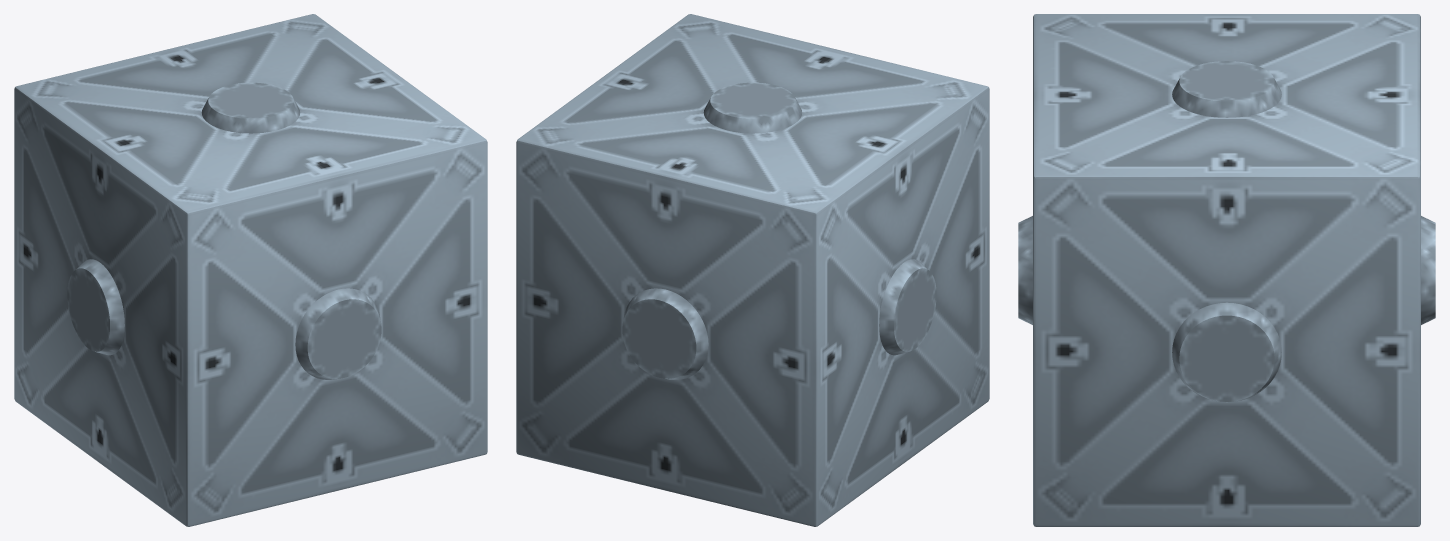
The model's file is ServiceCrate.glb.
3 views of the same model, side by side, from view 1: azimuth 30°, elevation 25°; view 2: azimuth 150°, elevation 25°; view 3: azimuth 270°, elevation 25° (orthographic). The views are drawn at different scales.
Parts seen in each view (by area): view 1: RF_ServiceCrate_00_SecondaryMetal; view 2: RF_ServiceCrate_00_SecondaryMetal; view 3: RF_ServiceCrate_00_SecondaryMetal.
Boxes of the visible parts, x1,y1,x2,y2 form: RF_ServiceCrate_00_SecondaryMetal: [14, 14, 487, 526]; RF_ServiceCrate_00_SecondaryMetal: [516, 14, 989, 526]; RF_ServiceCrate_00_SecondaryMetal: [1018, 14, 1435, 526].
Bounding box in the file's own units: 2.8 × 2.8 × 2.8.
Materials: 1 (1 with a texture image).
